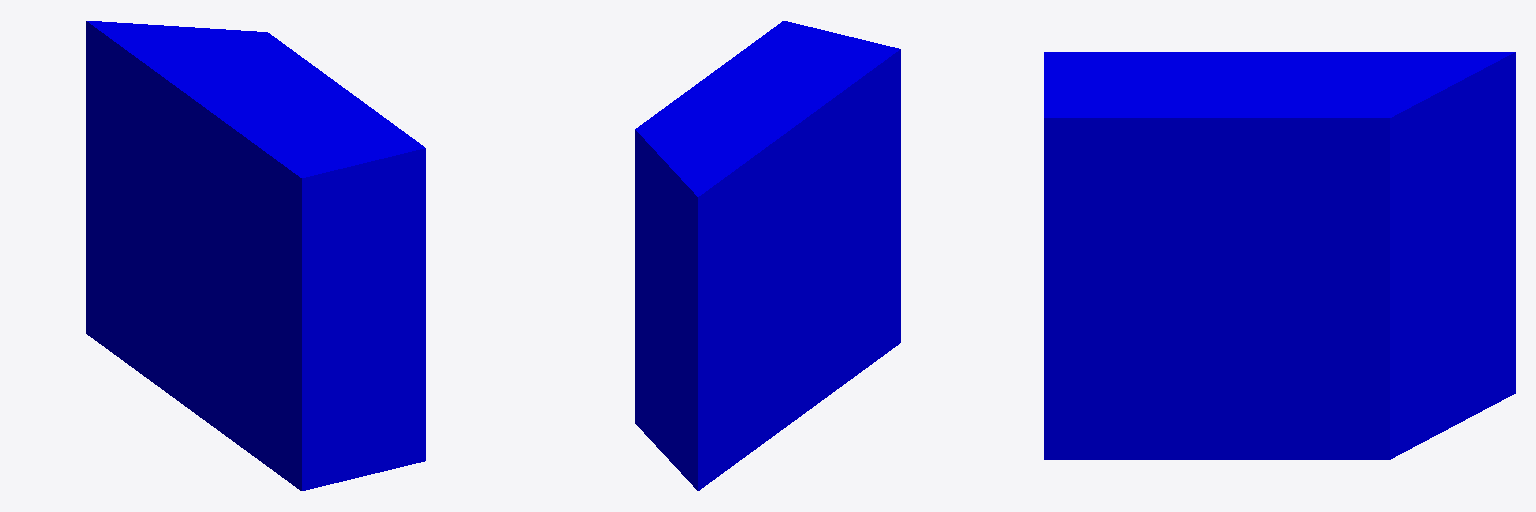
robot.urdf — building:
<?xml version="1.0" ?>

<robot name="building">

  <link name="base_link"> 

    <inertial>
      <origin rpy="0 0 0" xyz="0 0 0"/>
      <mass value="0.3"/>
      <inertia ixx="0" ixy="0.0" ixz="0.0" iyy="0" iyz="0.0" izz="0"/>
    </inertial>

    <visual>
      <origin rpy="0 0 0" xyz="-0.25 -0.5  0"/>
      <geometry>
        <mesh filename="./building_right_120.obj" scale="1. 1. 1."/>
      </geometry> 
      <material name="blue">
        <color rgba="0. 0. 1. 0.7"/>
      </material> 
    </visual>

    <collision>
      <origin rpy="0 0 0" xyz="-0.25 -0.5  0"/>
      <geometry>
        <mesh filename="./building_right_120.obj" scale="1. 1. 1."/>
      </geometry>
    </collision>  

  </link>

</robot>

--- Render facts (derived) ---
3 views of the same robot in one strip: view 1: azimuth 30°, elevation 25°; view 2: azimuth 150°, elevation 25°; view 3: azimuth 270°, elevation 25° (orthographic).
Model building with 1 links and 0 joints (none), rooted at base_link, posed every joint at zero.
Visible links, largest first — view 1: base_link; view 2: base_link; view 3: base_link.
Link boxes in pixels (x1,y1,x2,y2): base_link: (86, 21, 425, 490); base_link: (635, 21, 900, 490); base_link: (1044, 52, 1515, 459).
Bounding box of the posed robot: 0.5 × 1.5 × 1.2 m (x, y, z).
1 mesh visuals loaded from 1 distinct referenced files (1 OBJ).